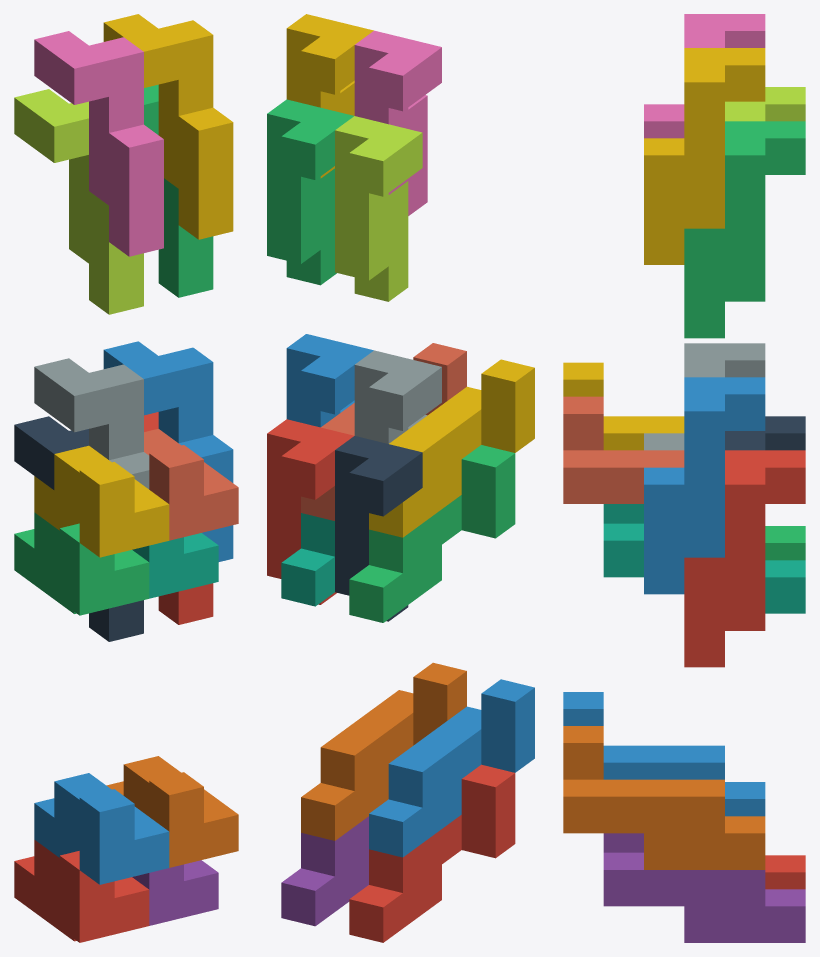
The model's file is tiling.obj.
3 views of the same model, side by side, from view 1: azimuth 30°, elevation 25°; view 2: azimuth 150°, elevation 25°; view 3: azimuth 270°, elevation 25° (orthographic). The views are drawn at different scales.
Visible parts, largest first — view 1: copy_2_domain_4, copy_2_domain_8, copy_2_domain_3, copy_1_domain_2, copy_1_domain_4, copy_2_domain_2, copy_2_domain_6, copy_1_domain_1, copy_1_domain_3, copy_1_domain_6, copy_1_domain_8, copy_2_domain_1 (+4 smaller); view 2: copy_1_domain_2, copy_2_domain_3, copy_1_domain_6, copy_1_domain_4, copy_1_domain_3, copy_1_domain_1, copy_2_domain_7, copy_2_domain_4, copy_2_domain_1, copy_2_domain_5, copy_2_domain_2, copy_2_domain_8 (+4 smaller); view 3: copy_1_domain_6, copy_2_domain_6, copy_2_domain_8, copy_2_domain_5, copy_2_domain_7, copy_1_domain_5, copy_1_domain_8, copy_1_domain_2, copy_1_domain_7, copy_2_domain_4, copy_1_domain_4, copy_2_domain_2 (+4 smaller).
Part boxes in pixels (x1,y1,x2,y2): copy_2_domain_4: [34, 31, 163, 256]; copy_2_domain_8: [103, 14, 233, 239]; copy_2_domain_3: [14, 89, 143, 314]; copy_1_domain_2: [34, 773, 169, 884]; copy_1_domain_4: [34, 445, 169, 557]; copy_2_domain_2: [34, 358, 149, 489]; copy_2_domain_6: [103, 341, 233, 561]; copy_1_domain_1: [14, 840, 149, 942]; copy_1_domain_3: [14, 512, 149, 615]; copy_1_domain_6: [106, 756, 238, 867]; copy_1_domain_8: [144, 428, 238, 540]; copy_2_domain_1: [14, 416, 143, 641]; copy_1_domain_2: [369, 679, 534, 857]; copy_2_domain_3: [335, 116, 422, 301]; copy_1_domain_6: [301, 662, 466, 840]; copy_1_domain_4: [369, 359, 534, 537]; copy_1_domain_3: [349, 445, 515, 622]; copy_1_domain_1: [349, 764, 515, 942]; copy_2_domain_7: [267, 99, 353, 285]; copy_2_domain_4: [354, 30, 441, 215]; copy_2_domain_1: [335, 436, 422, 621]; copy_2_domain_5: [267, 419, 354, 604]; copy_2_domain_2: [354, 350, 441, 443]; copy_2_domain_8: [286, 14, 373, 178]; copy_1_domain_6: [563, 726, 765, 869]; copy_2_domain_6: [644, 377, 765, 594]; copy_2_domain_8: [644, 48, 765, 264]; copy_2_domain_5: [684, 450, 805, 667]; copy_2_domain_7: [684, 121, 805, 338]; copy_1_domain_5: [603, 833, 805, 942]; copy_1_domain_8: [563, 396, 684, 503]; copy_1_domain_2: [563, 692, 765, 816]; copy_1_domain_7: [603, 504, 805, 613]; copy_2_domain_4: [644, 14, 765, 138]; copy_1_domain_4: [563, 362, 684, 450]; copy_2_domain_2: [644, 343, 765, 450].
Bounding box in the file's own units: 5 × 24 × 6.
